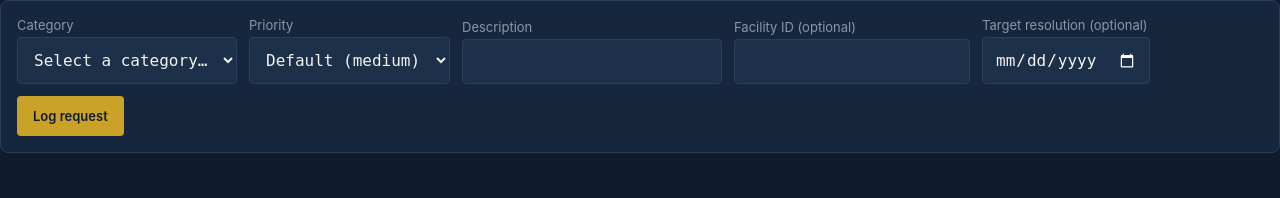
Test case: CreateMaintenanceRequestForm › shows the action-returned error message and does not reset the fields on failure
Select "Electrical" in the dropdown labelled "Category". click: (127, 60)
box: x1=17 y1=37 x2=237 y2=84
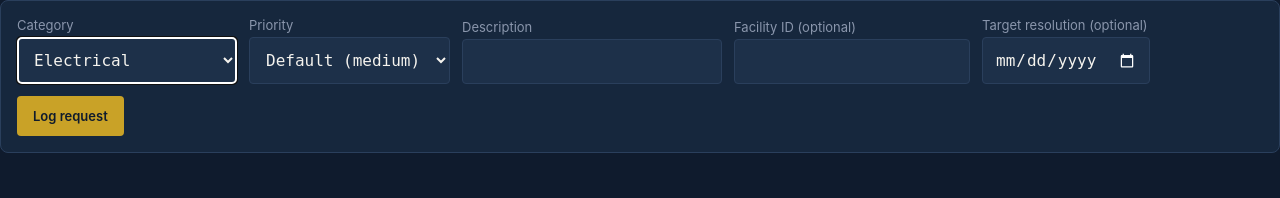
Type "Flickering lights in lobby" into the field labelled "Description". click: (592, 62)
box: x1=462 y1=39 x2=722 y2=84
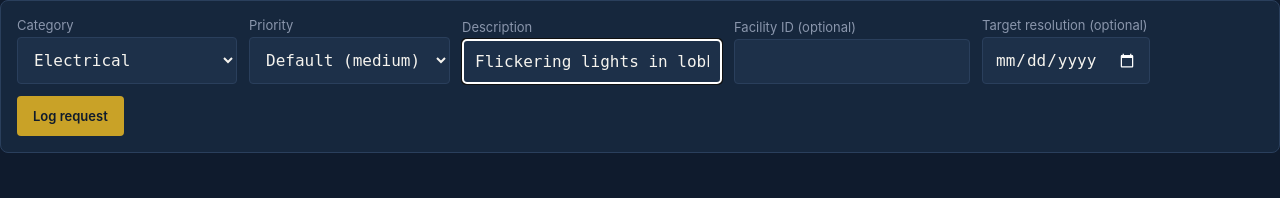
Click the button "Log request". click: (70, 116)
box: x1=17 y1=96 x2=124 y2=136
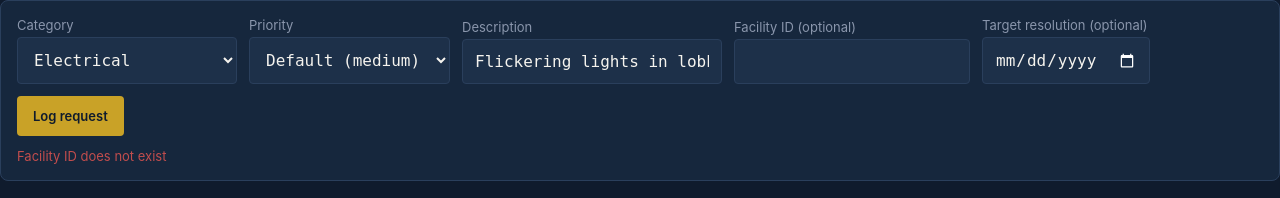
Expected: the text "Facility ID does not exist" is shown, x1=17 y1=148 x2=166 y2=164
